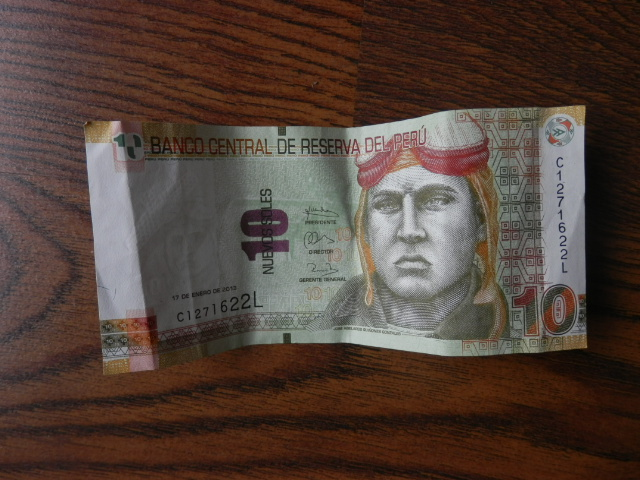B10: (76, 110, 602, 364)
